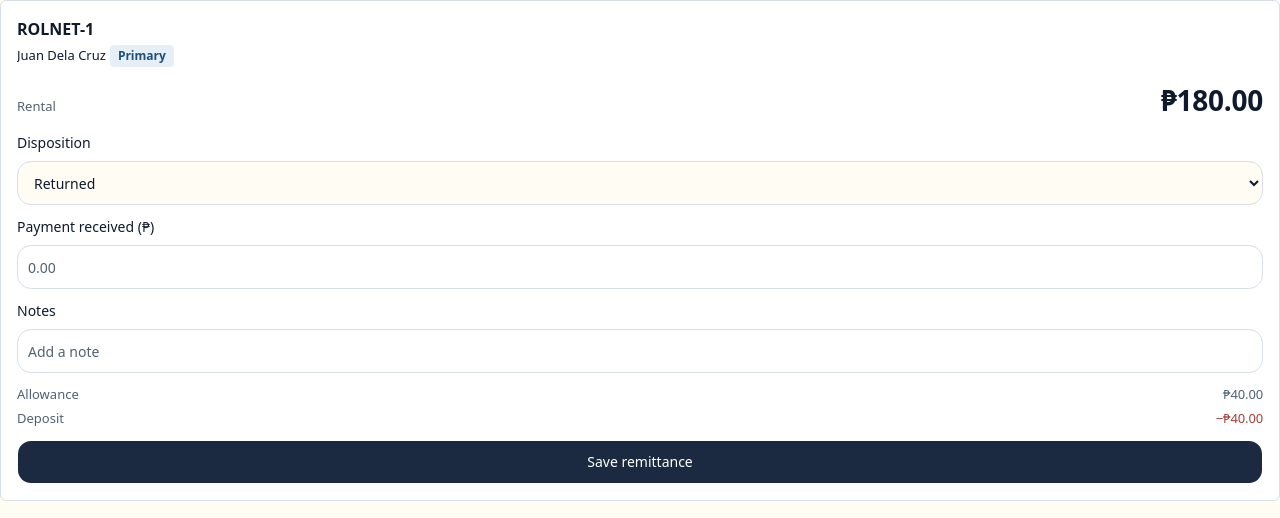
Scenario: DailyCard: recording (feature 008, User Story 1) › updates the due as soon as the disposition changes (FR-019)
Expected: the text "₱180.00" is shown, [1161,79,1263,121]
Select "Overnight / overtime" in the dropdown labelled "Disposition". click: (640, 183)
box: [17,161,1263,205]
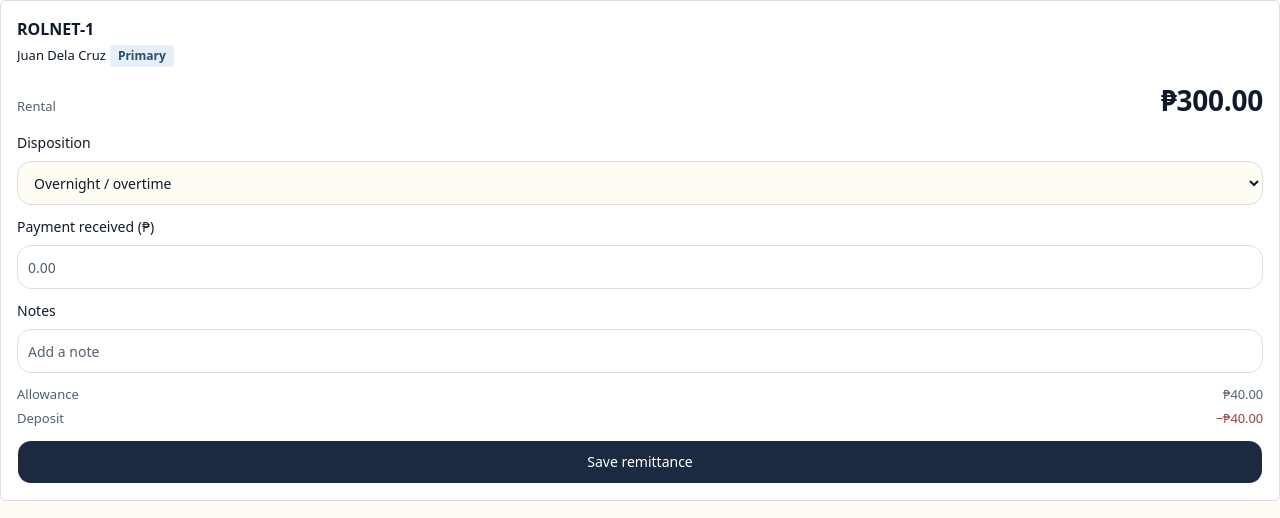
Result: the text "₱300.00" is shown at [1161,79,1263,121]
